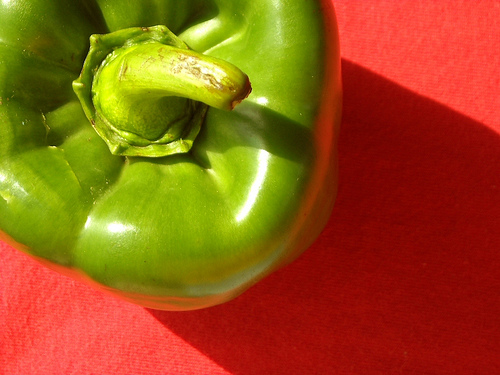capsicum: (0, 0, 346, 312)
